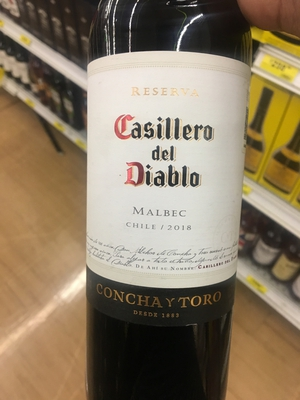casillero del diablo malbec: (80, 7, 260, 400)
